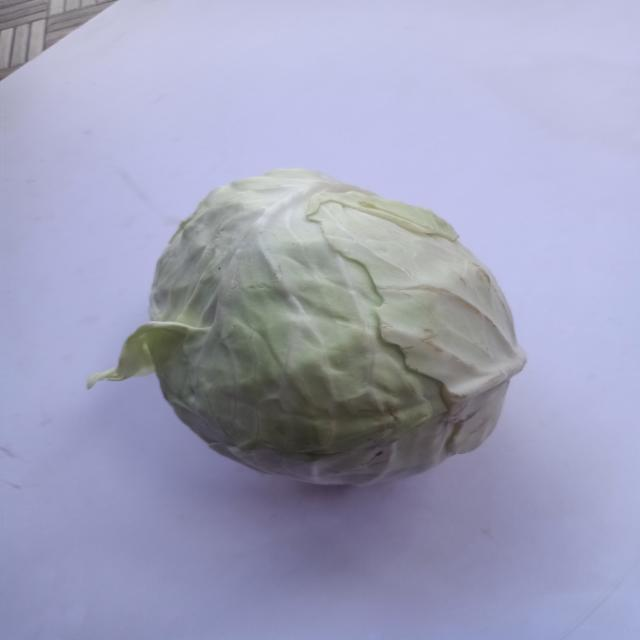Cabbage: (77, 165, 538, 508)
